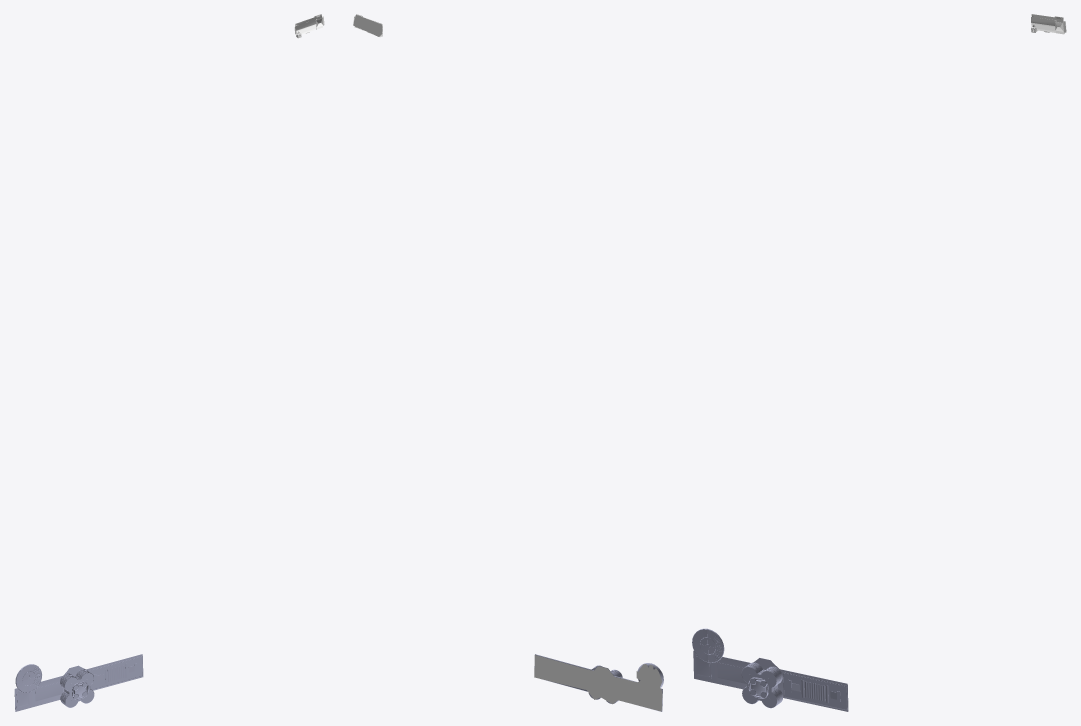
3 views of the same model, side by side, from view 1: azimuth 30°, elevation 25°; view 2: azimuth 150°, elevation 25°; view 3: azimuth 330°, elevation 25° (orthographic). The views are drawn at different scales.
Bounding box in the file's own units: 2792 × 5410 × 101.
